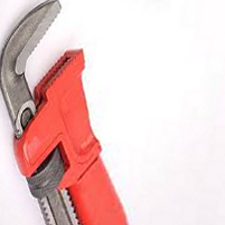Wrench: (3, 1, 160, 225)
